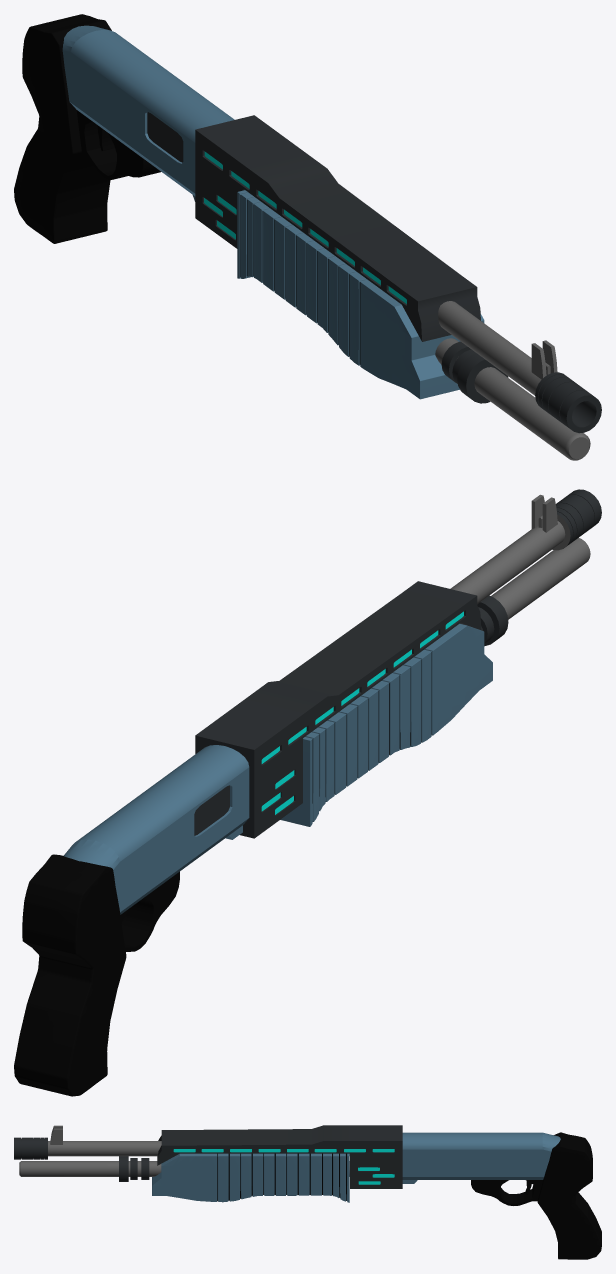
File: ShotGun.fbx
3 renders of one model, top to bottom at view 1: azimuth 30°, elevation 25°; view 2: azimuth 150°, elevation 25°; view 3: azimuth 270°, elevation 25°, orthographic. The views are drawn at different scales.
Parts seen in each view (by area): view 1: Gun; view 2: Gun; view 3: Gun.
Boxes of the visible parts, <box> form: Gun: <box>14,14,601,460</box>; Gun: <box>14,489,601,1096</box>; Gun: <box>14,1125,601,1259</box>.
Size of the model in its own units: 12.46 by 37.79 by 161.
